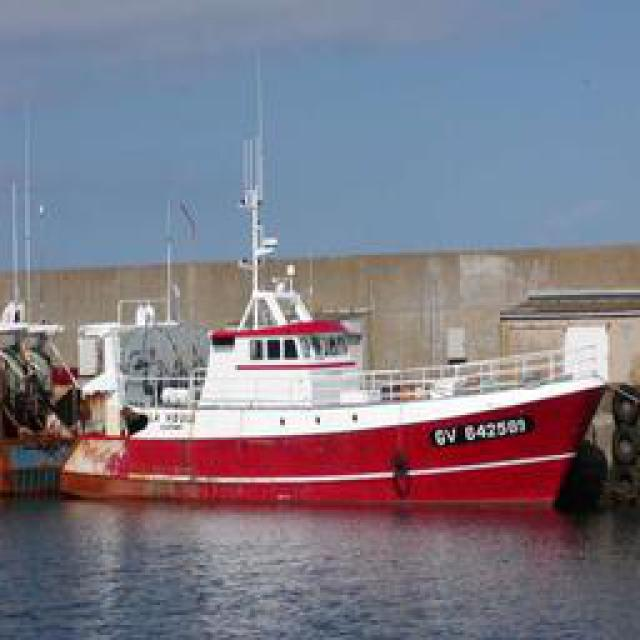Ship: (54, 155, 619, 505)
